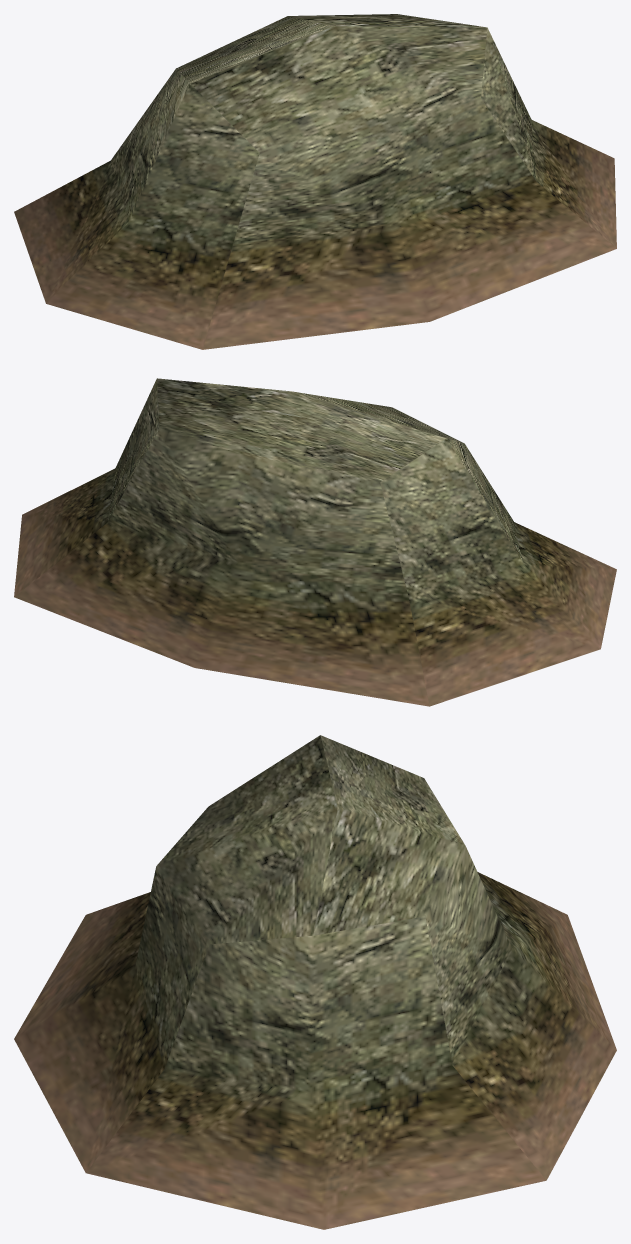
File: nast11.dae
The picture shows the model from 3 angles, top to bottom: view 1: azimuth 30°, elevation 25°; view 2: azimuth 150°, elevation 25°; view 3: azimuth 270°, elevation 25°; orthographic projection. The views are drawn at different scales.
Visible parts, largest first — view 1: stones03; view 2: stones03; view 3: stones03.
Boxes of the visible parts, bbox=[...] form: stones03: bbox=[14, 14, 616, 349]; stones03: bbox=[14, 378, 616, 706]; stones03: bbox=[14, 735, 616, 1229].
Bounding box in the file's own units: 7.04 × 5 × 2.29.
Materials: 1 (1 with a texture image).
